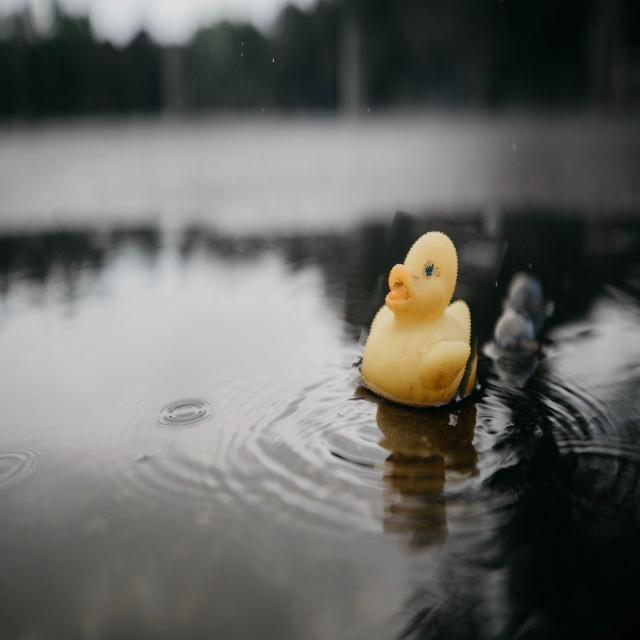rubber-duck: (360, 231, 475, 405)
